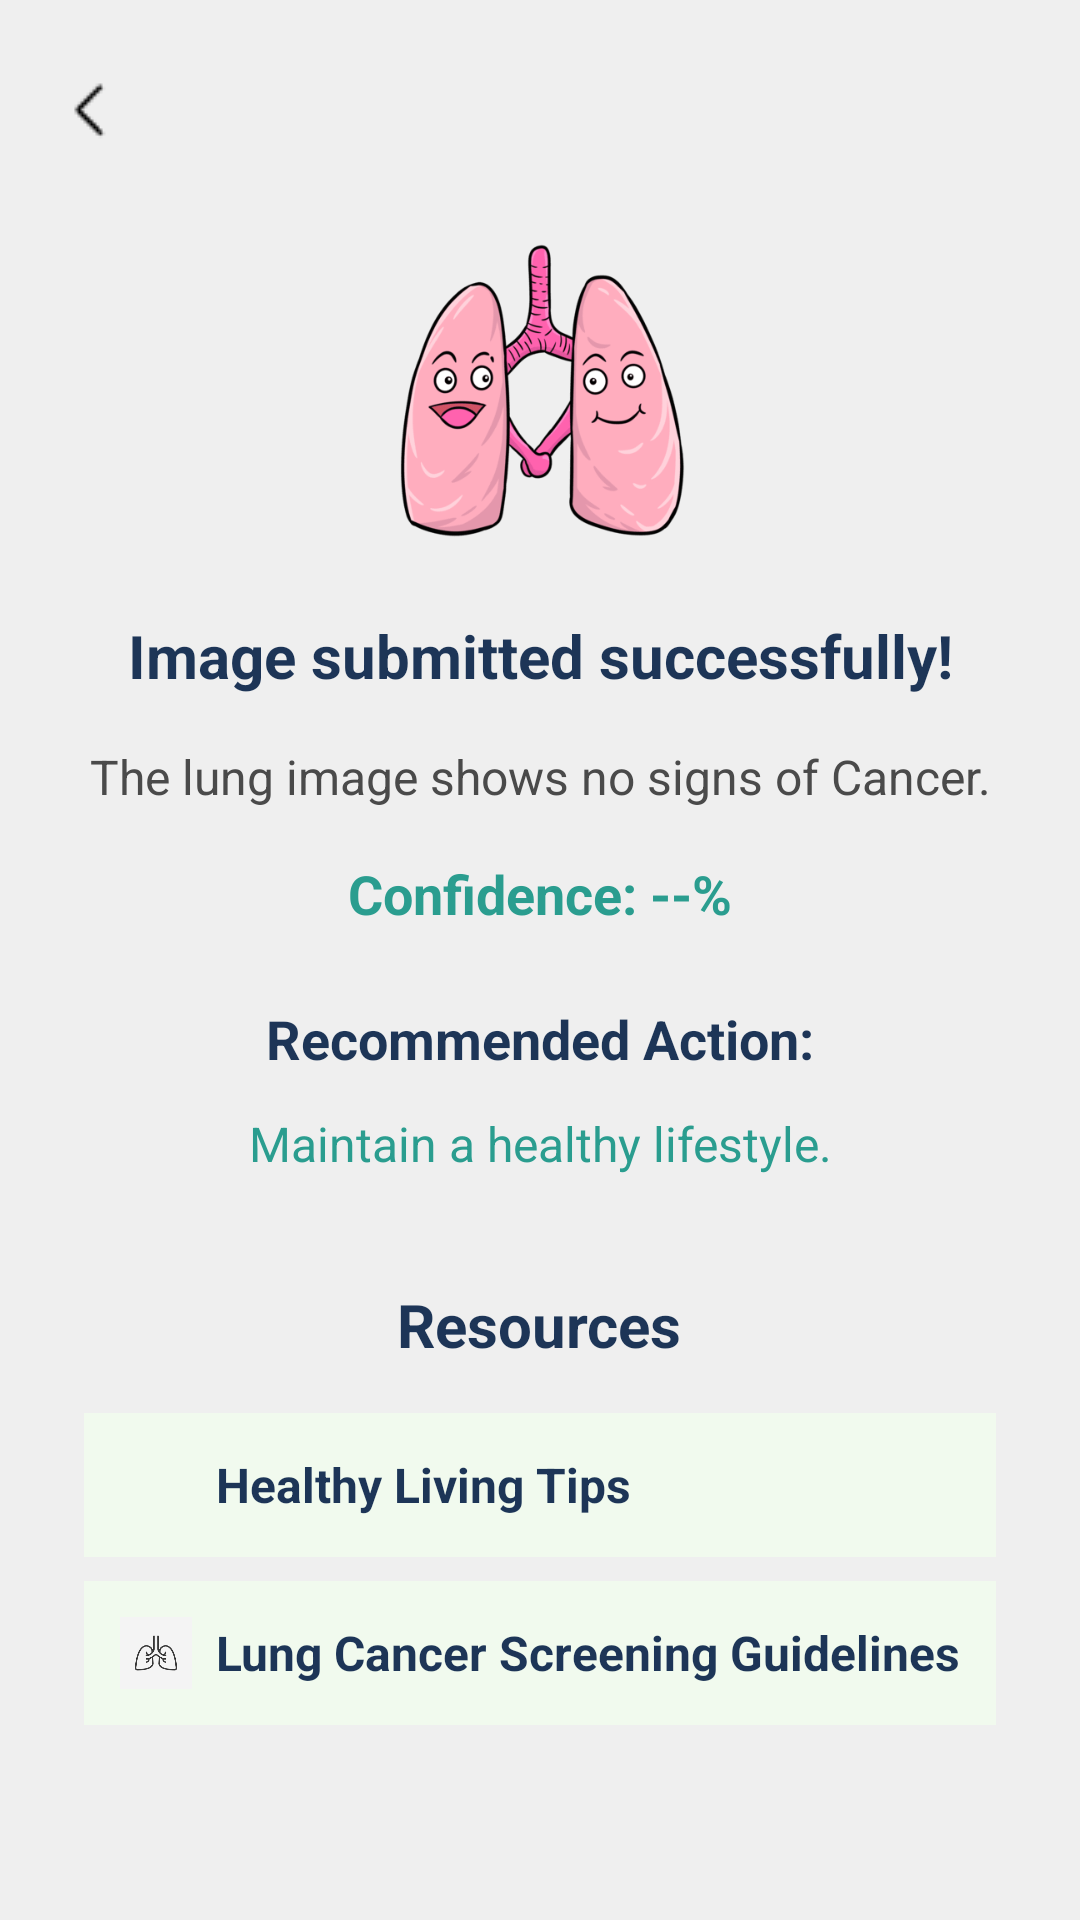

Where icons sit on this 1080 x 1920 app screen, as [left=x1, top=y1, right=x2, bottom=y2]:
Back: [left=74, top=83, right=104, bottom=136]
